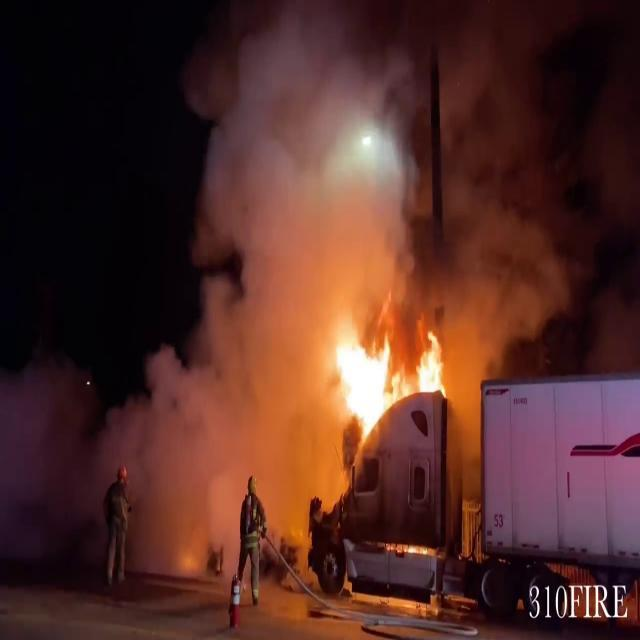Fire: (323, 318, 453, 442)
Smoke: (157, 0, 638, 341), (120, 7, 359, 580)
